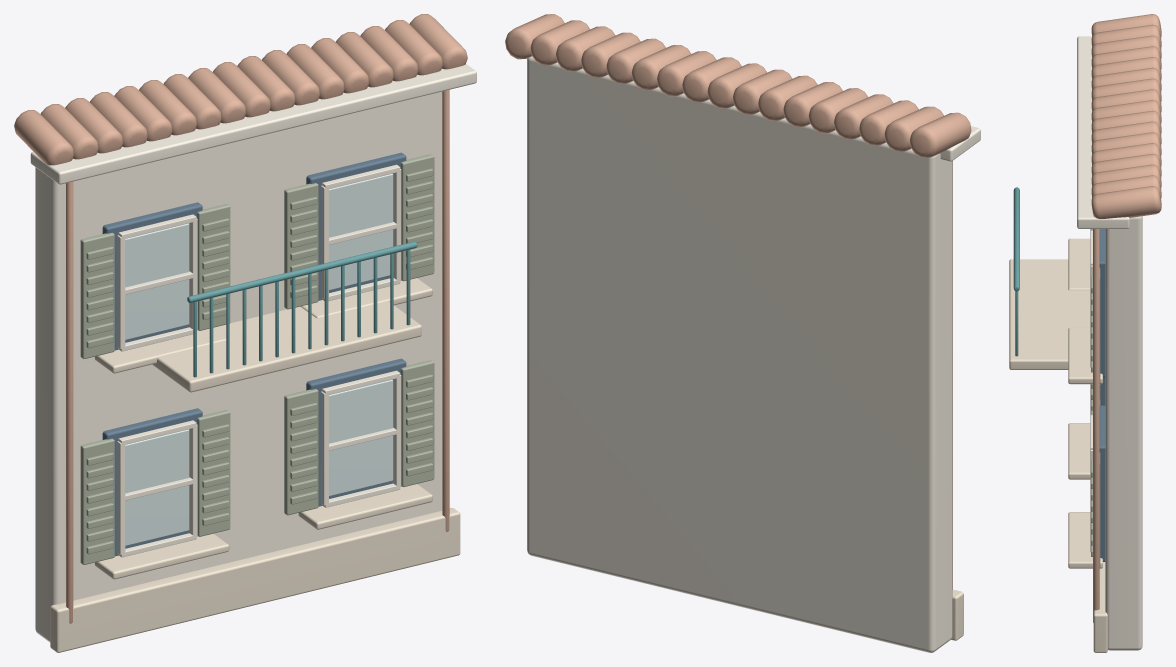
The model's file is Facade_4.fbx.
The picture shows the model from 3 angles, left to right: view 1: azimuth 30°, elevation 25°; view 2: azimuth 150°, elevation 25°; view 3: azimuth 270°, elevation 25°; orthographic projection. The views are drawn at different scales.
Visible parts, largest first — view 1: Plaster, StoneFoot, BalconyFloor, Cornice, Glass, Glass.002, Glass.001, Glass.003, RainPipe.001, RainPipe, Shutter.004, Shutter (+40 smaller); view 2: Plaster, RoofTile, RoofTile.008, RoofTile.013, RoofTile.014, RoofTile.002, RoofTile.015, RoofTile.003, RoofTile.007, RoofTile.009, RoofTile.010, RoofTile.001 (+6 smaller); view 3: Plaster, BalconyFloor, Cornice, RainPipe.001, RoofTile.016, Sill.003, Sill.002, Sill, Sill.001, WindowRecess.002, StoneFoot, WindowRecess.003 (+18 smaller).
Boxes of the visible parts, <box> form: Plaster: <box>35,91,442,642</box>; StoneFoot: <box>50,508,460,652</box>; BalconyFloor: <box>152,301,421,392</box>; Cornice: <box>30,64,476,184</box>; Glass: <box>125,429,189,545</box>; Glass.002: <box>329,379,393,496</box>; Glass.001: <box>125,223,189,339</box>; Glass.003: <box>329,173,393,290</box>; RainPipe.001: <box>442,90,449,531</box>; RainPipe: <box>66,181,73,623</box>; Shutter.004: <box>284,389,318,515</box>; Shutter: <box>80,438,114,564</box>; Plaster: <box>527,56,952,652</box>; RoofTile: <box>910,112,971,157</box>; RoofTile.008: <box>707,63,766,108</box>; RoofTile.013: <box>581,32,640,77</box>; RoofTile.014: <box>556,26,615,71</box>; RoofTile.002: <box>859,100,918,145</box>; RoofTile.015: <box>530,20,589,65</box>; RoofTile.003: <box>834,94,893,139</box>; RoofTile.007: <box>733,69,792,114</box>; RoofTile.009: <box>682,57,741,102</box>; RoofTile.010: <box>657,51,716,96</box>; RoofTile.001: <box>884,106,943,151</box>; Plaster: <box>1105,216,1142,650</box>; BalconyFloor: <box>1009,259,1090,369</box>; Cornice: <box>1077,36,1129,228</box>; RainPipe.001: <box>1093,229,1099,622</box>; RoofTile.016: <box>1091,186,1161,218</box>; Sill.003: <box>1068,327,1102,384</box>; Sill.002: <box>1068,512,1102,568</box>; Sill: <box>1068,423,1090,479</box>; Sill.001: <box>1068,238,1090,290</box>; WindowRecess.002: <box>1099,405,1105,561</box>; StoneFoot: <box>1093,562,1107,652</box>; WindowRecess.003: <box>1099,229,1105,377</box>.
Size of the model in its own units: 488 by 574 by 171.
